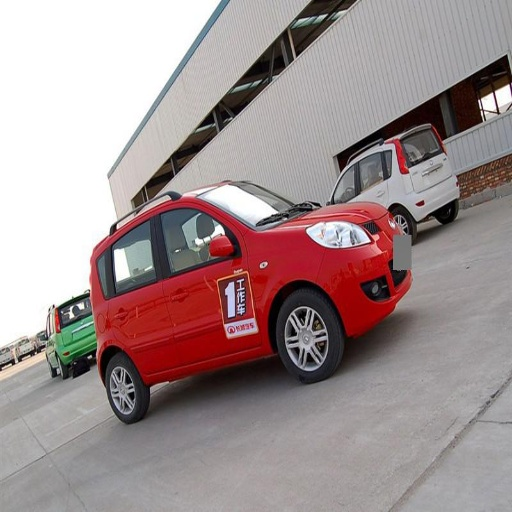front_right_door: (197, 271, 242, 354), (161, 216, 215, 285)
